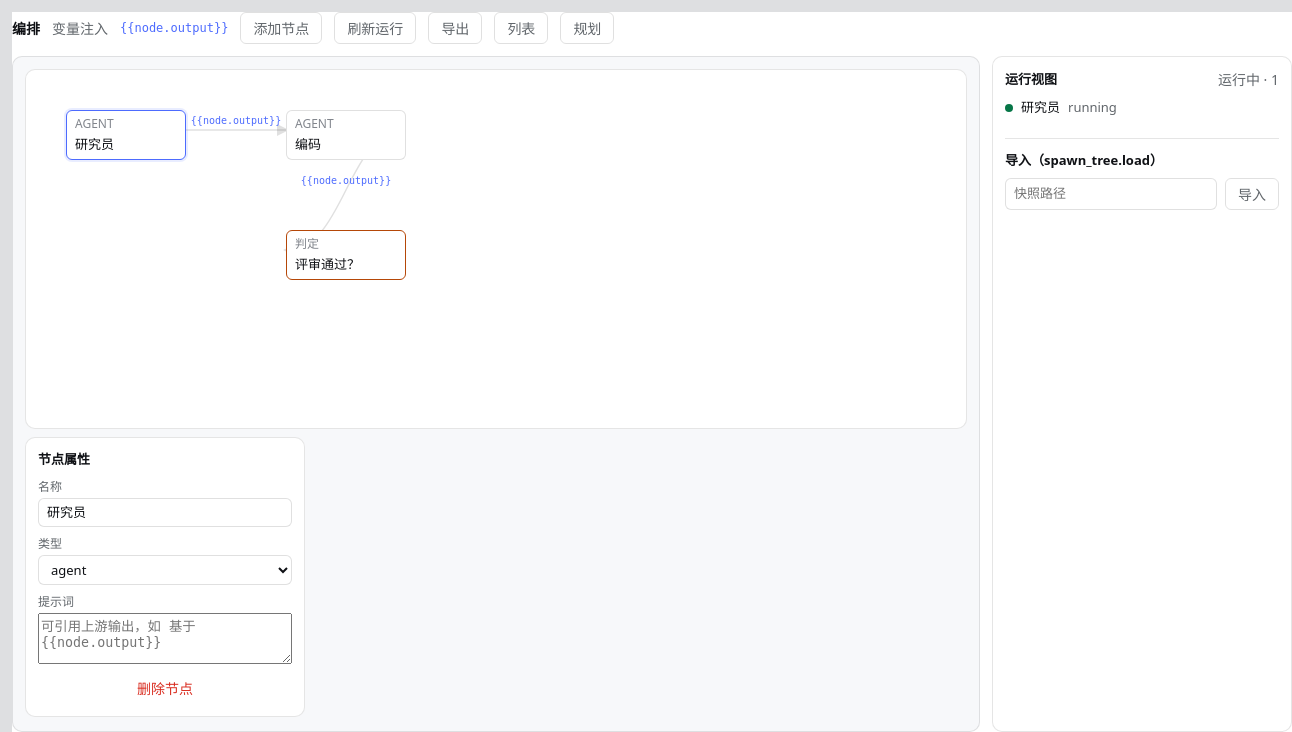
OrchestrationPage (M21) › adds and edits a node
Expected: the button "agent 研究员" is shown, [66, 110, 186, 160]
Click the button "添加节点" at (281, 28), box [240, 12, 322, 44]
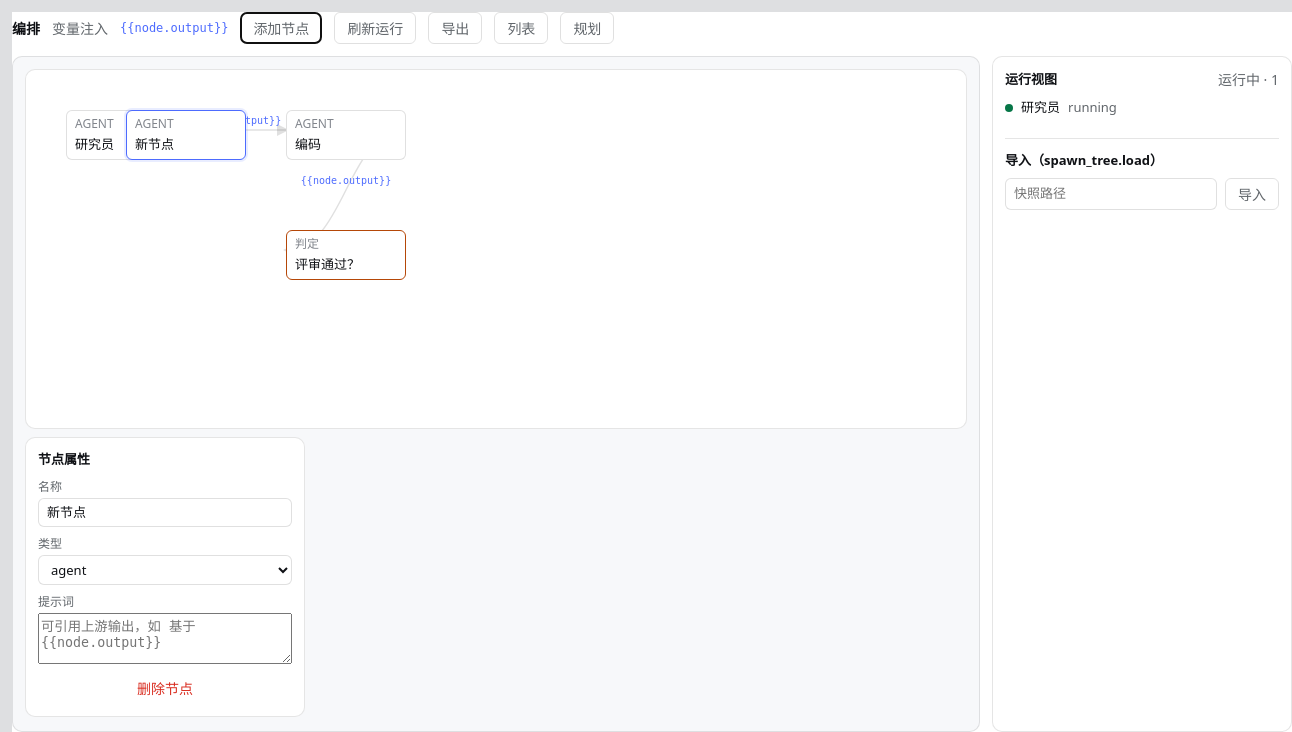
Now the button "agent 新节点" is shown, box [126, 110, 246, 160]
Replace the text in the field named "节点名称" with "发布" at (165, 512), box [38, 498, 292, 527]
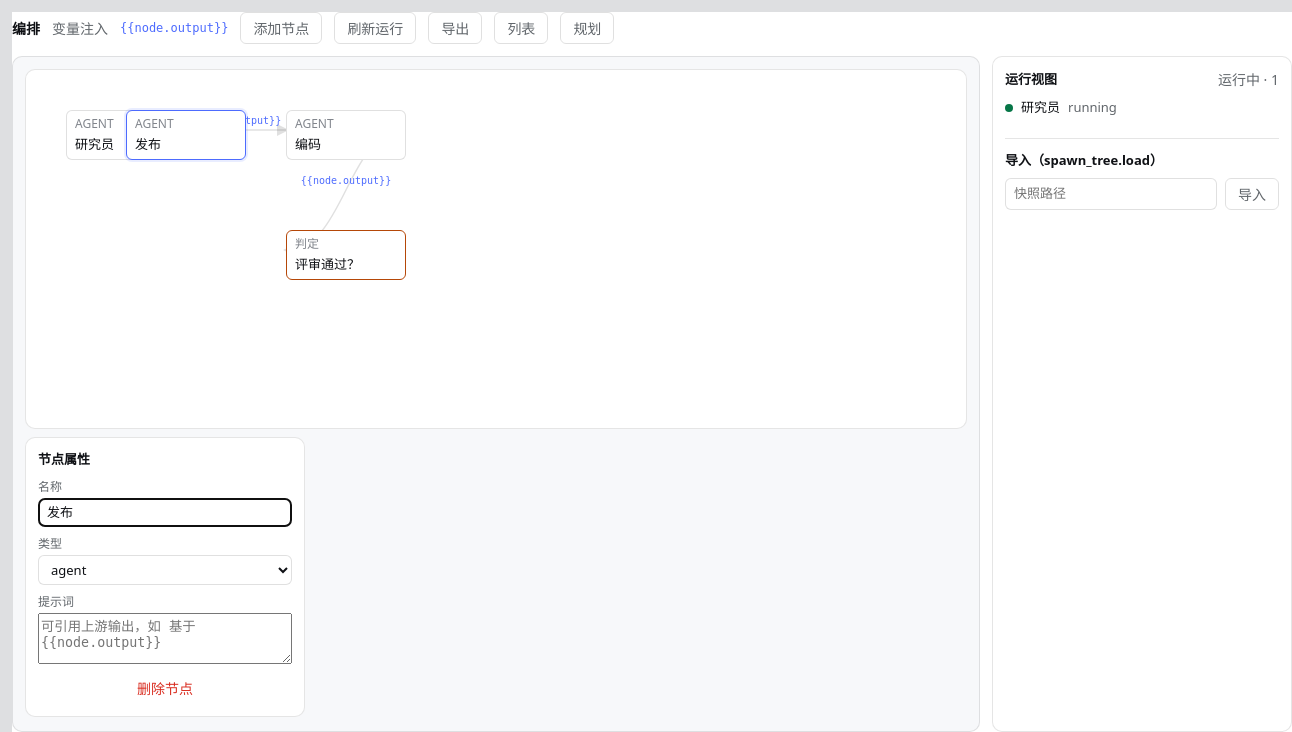
Now the button "agent 发布" is shown, box [126, 110, 246, 160]
